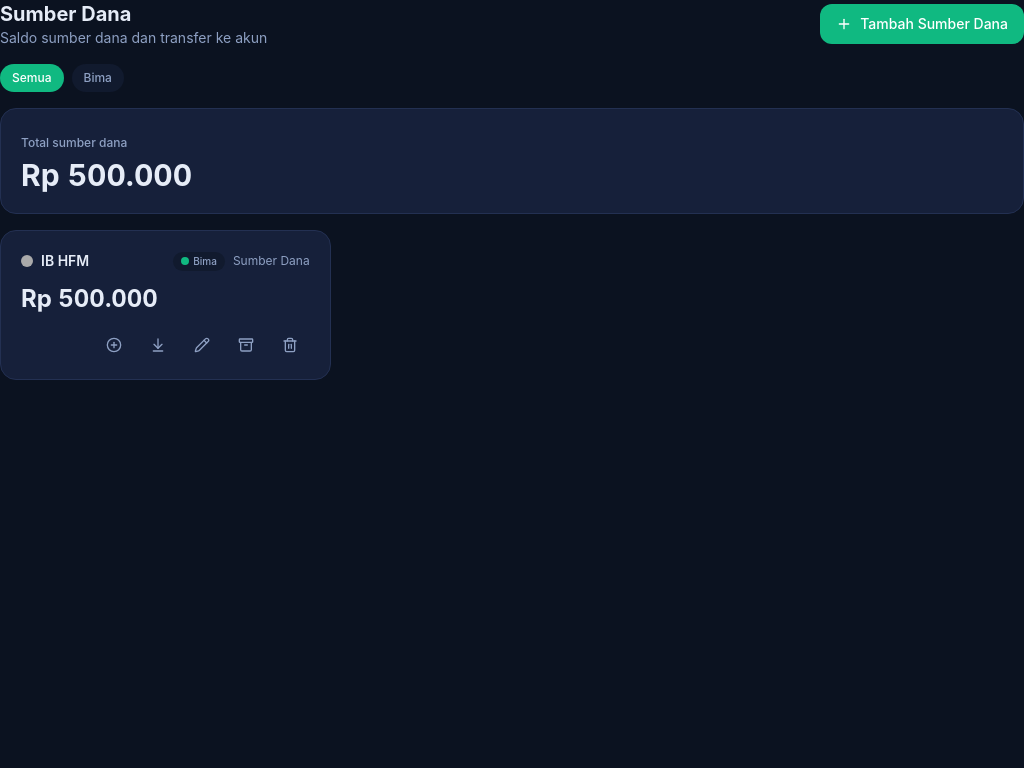
Test: FundingSourcesPage › opens the adjustment modal from a source card and submits a top-up
The width and height of the screenshot is (1024, 768).
expect the heading "IB HFM" is shown: met, box left=41, top=252, right=89, bottom=269
Click the button named "Penyesuaian". click: (114, 345)
box: left=94, top=331, right=134, bottom=359
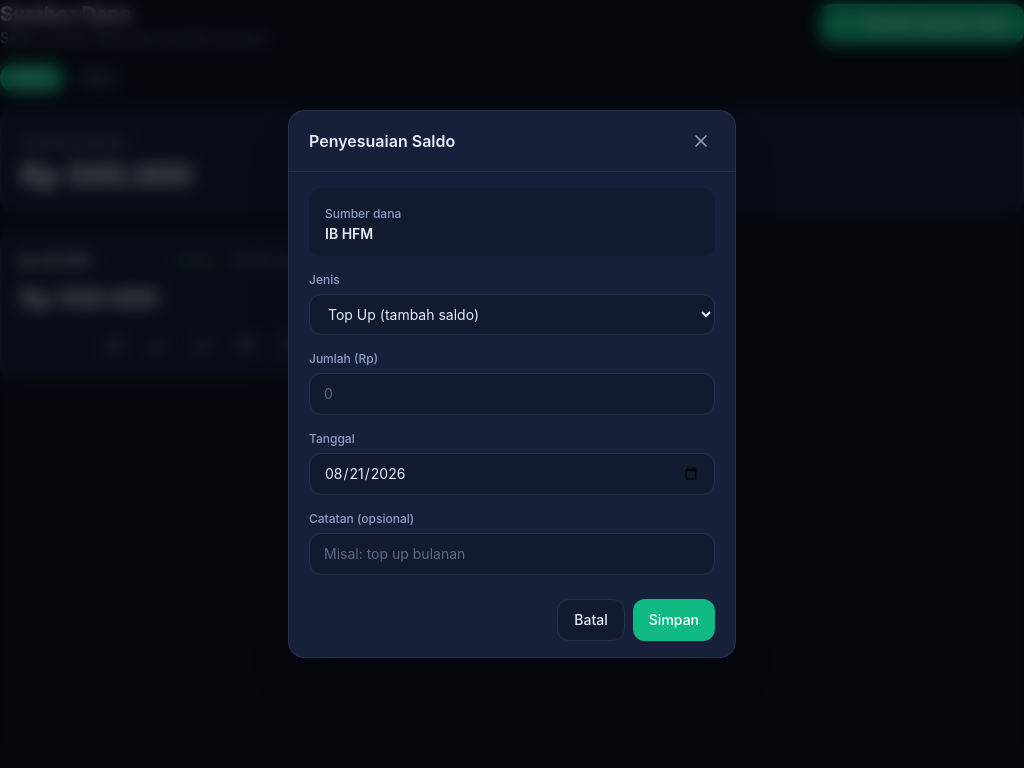
expect the heading "Penyesuaian Saldo" is shown: met, box left=309, top=129, right=455, bottom=153
Type "250000" into the field labelled "Jumlah (Rp)". click: (512, 394)
box: left=309, top=373, right=715, bottom=415
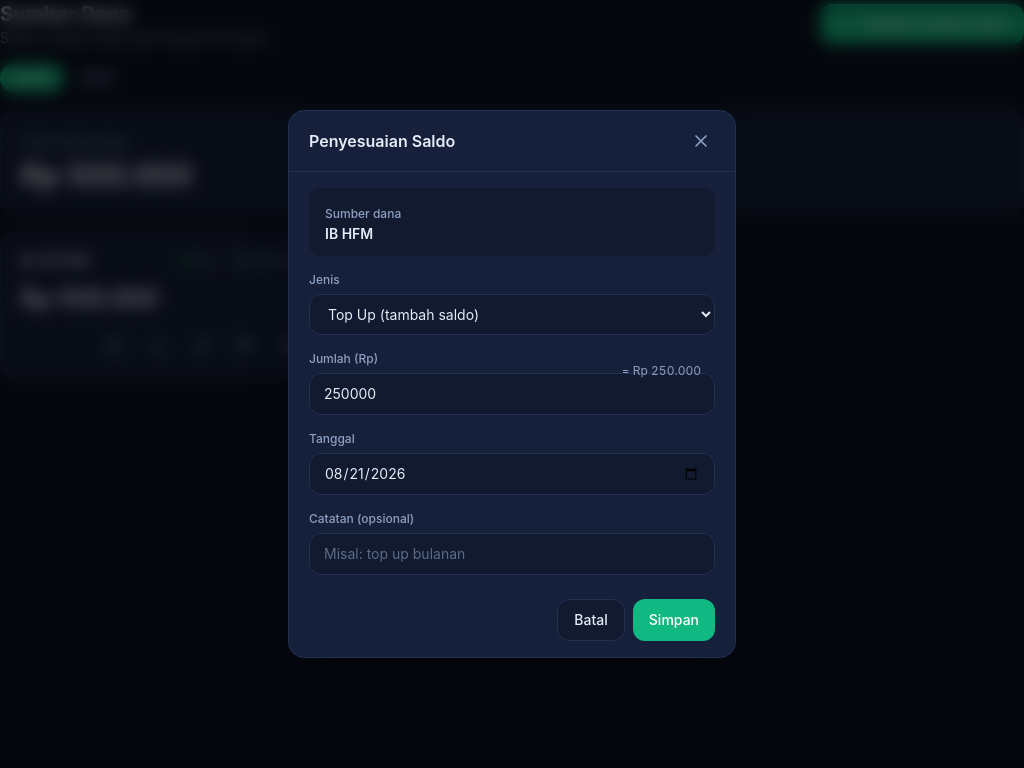
Submit the form, box left=309, top=188, right=715, bottom=641
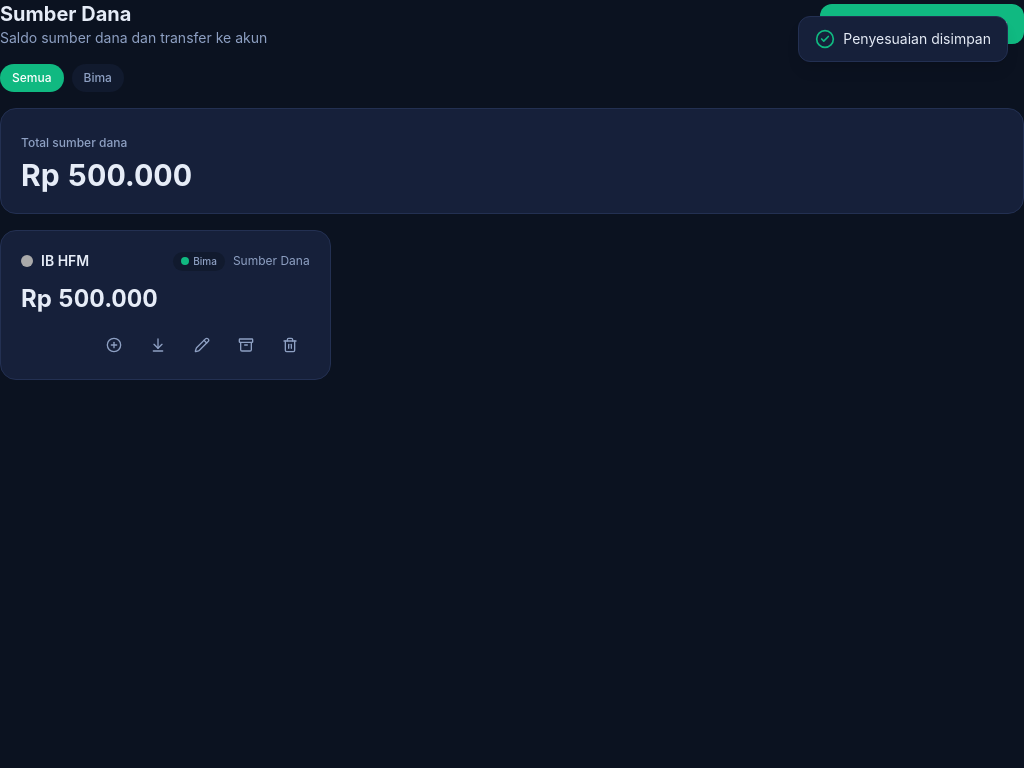
expect the text "Penyesuaian disimpan" is shown: met, box left=843, top=29, right=991, bottom=49
